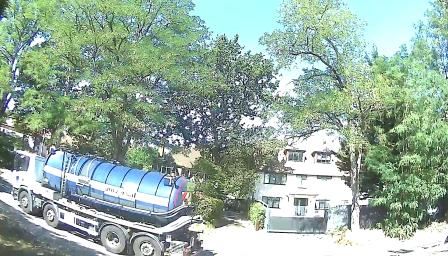truck: (17, 134, 221, 256)
